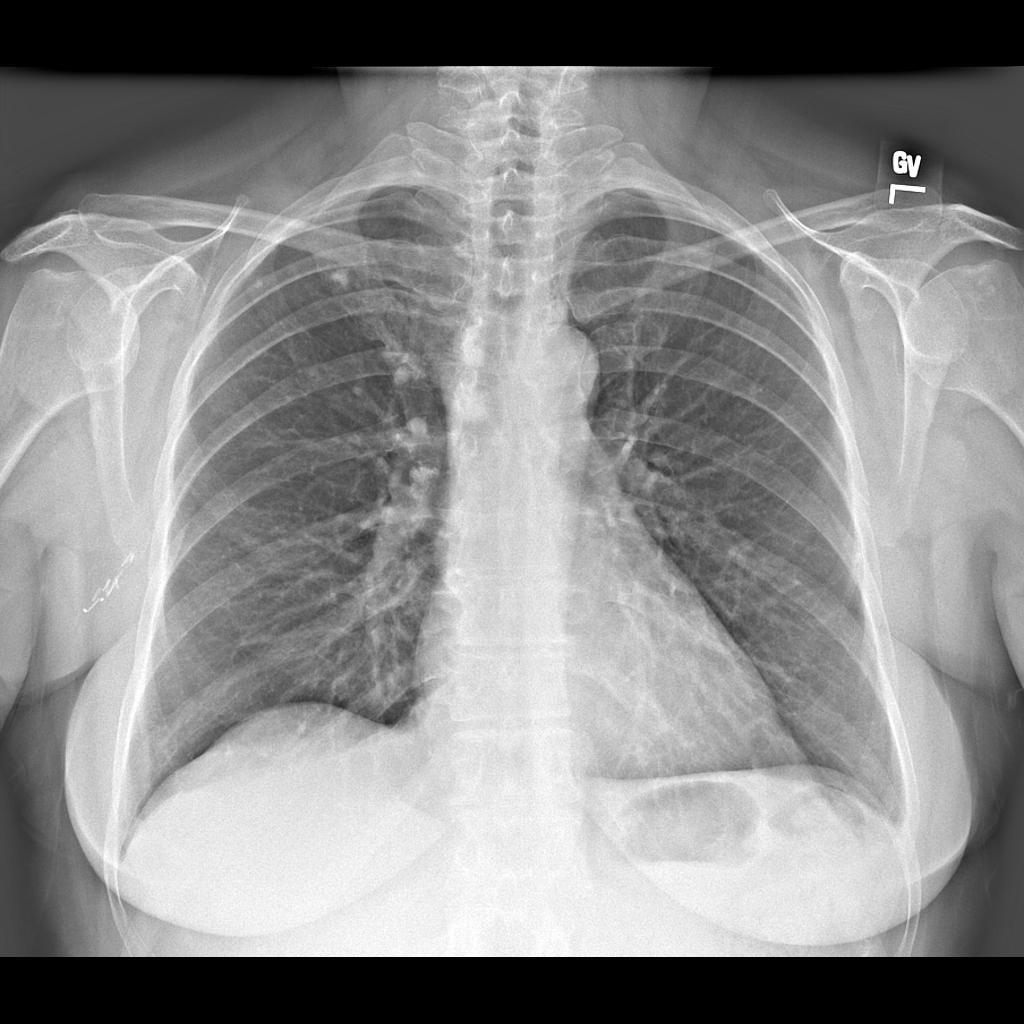Nodule: (333, 270, 351, 291)
